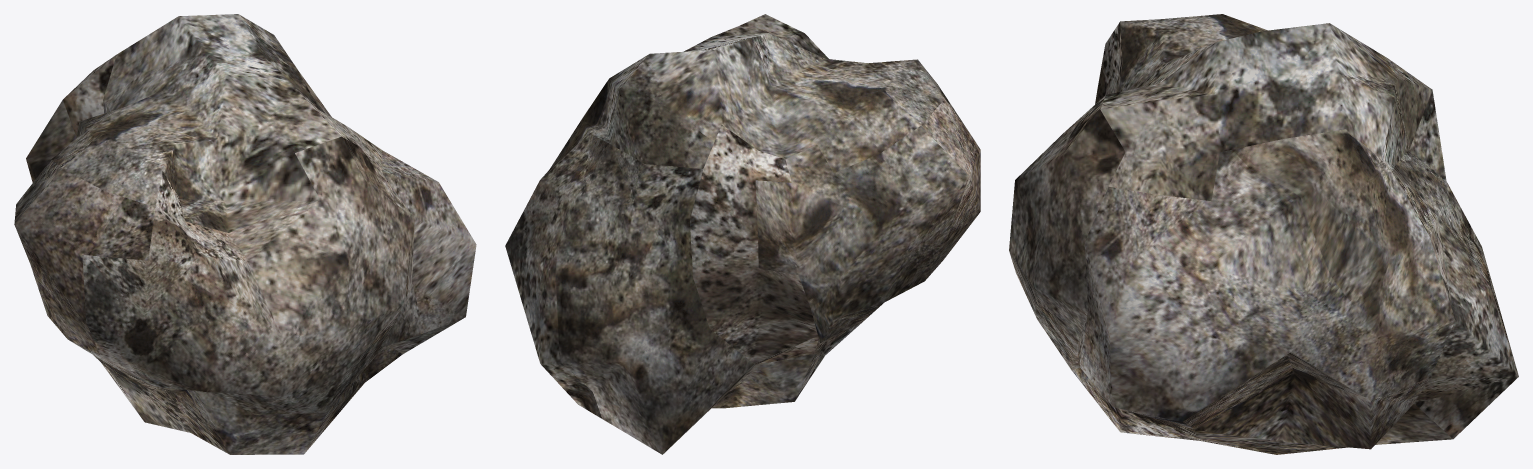
The model's file is Rock_5x5_B.FBX.
The picture shows the model from 3 angles, left to right: view 1: azimuth 30°, elevation 25°; view 2: azimuth 150°, elevation 25°; view 3: azimuth 270°, elevation 25°; orthographic projection. The views are drawn at different scales.
Parts seen in each view (by area): view 1: Rock_5x5_B; view 2: Rock_5x5_B; view 3: Rock_5x5_B.
Boxes of the visible parts, <box> form: Rock_5x5_B: <box>14,14,476,454</box>; Rock_5x5_B: <box>505,14,980,454</box>; Rock_5x5_B: <box>1009,14,1518,454</box>.
Size of the model in its own units: 5.42 by 4.92 by 5.38.
1 material, 1 textured.
